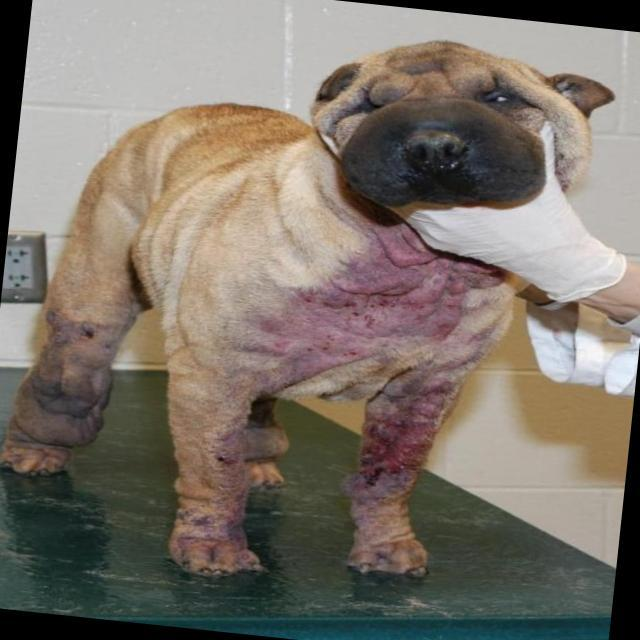allergic dermatitis: (282, 225, 483, 355), (367, 371, 446, 497)
